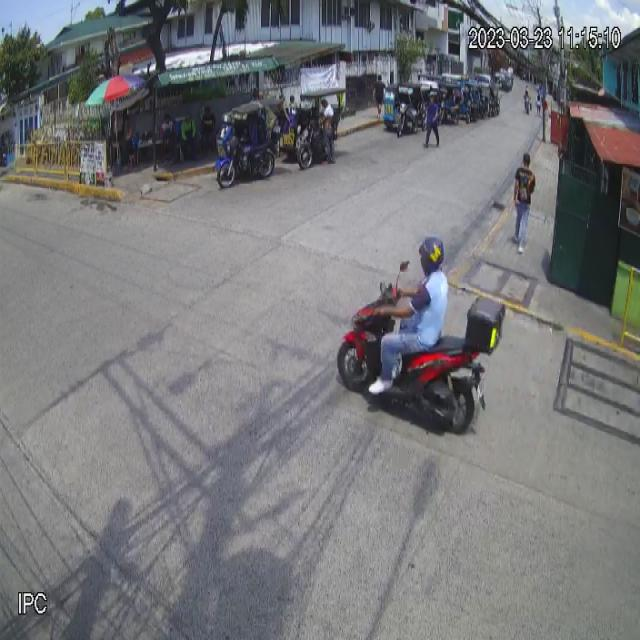Motorcycle: (336, 260, 507, 438)
